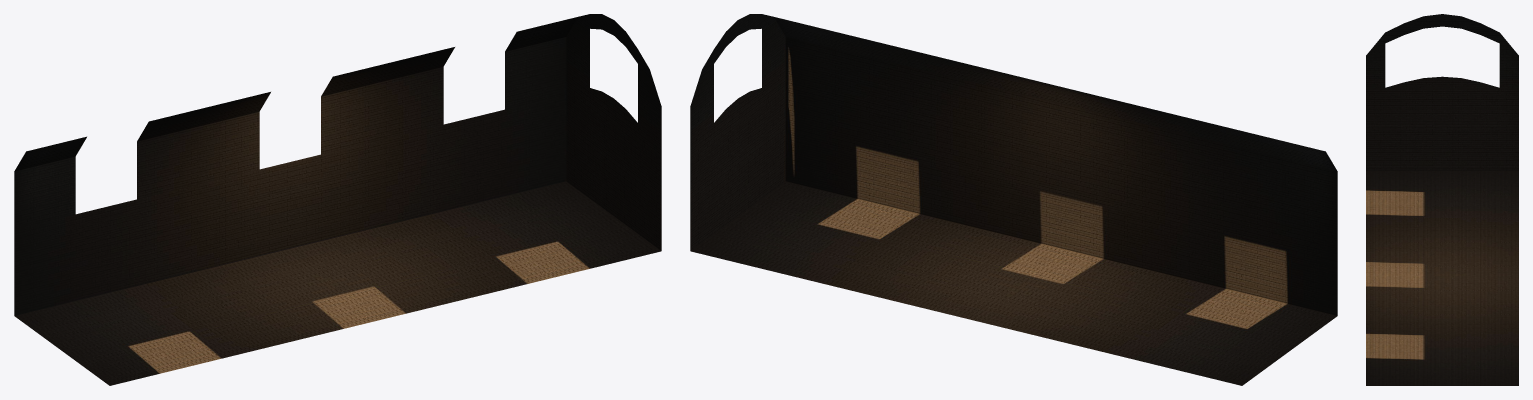
The model's file is lit_anvil_test.glb.
3 renders of one model, left to right at view 1: azimuth 30°, elevation 25°; view 2: azimuth 150°, elevation 25°; view 3: azimuth 270°, elevation 25°, orthographic. The views are drawn at different scales.
Visible parts, largest first — view 1: Box; view 2: Box; view 3: Box.
Part boxes in pixels (x1=…): Box: x1=14, y1=14, x2=661, y2=385; Box: x1=690, y1=14, x2=1337, y2=385; Box: x1=1366, y1=14, x2=1518, y2=385.
Bounding box in the file's own units: 20 × 6.8 × 6.
1 material, 1 textured.
